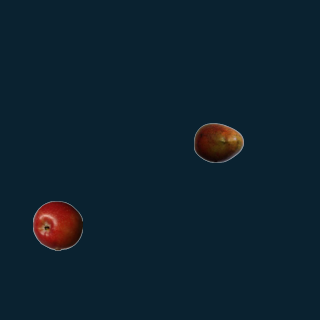Apple Braeburn: (32, 200, 82, 250)
Mango Red: (193, 117, 243, 167)
